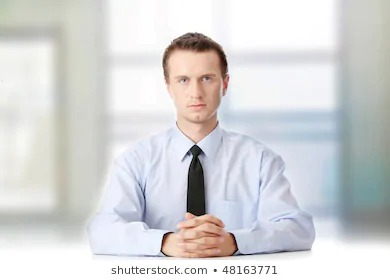F_shirt: (83, 112, 316, 258)
F_tie: (187, 142, 206, 218)
